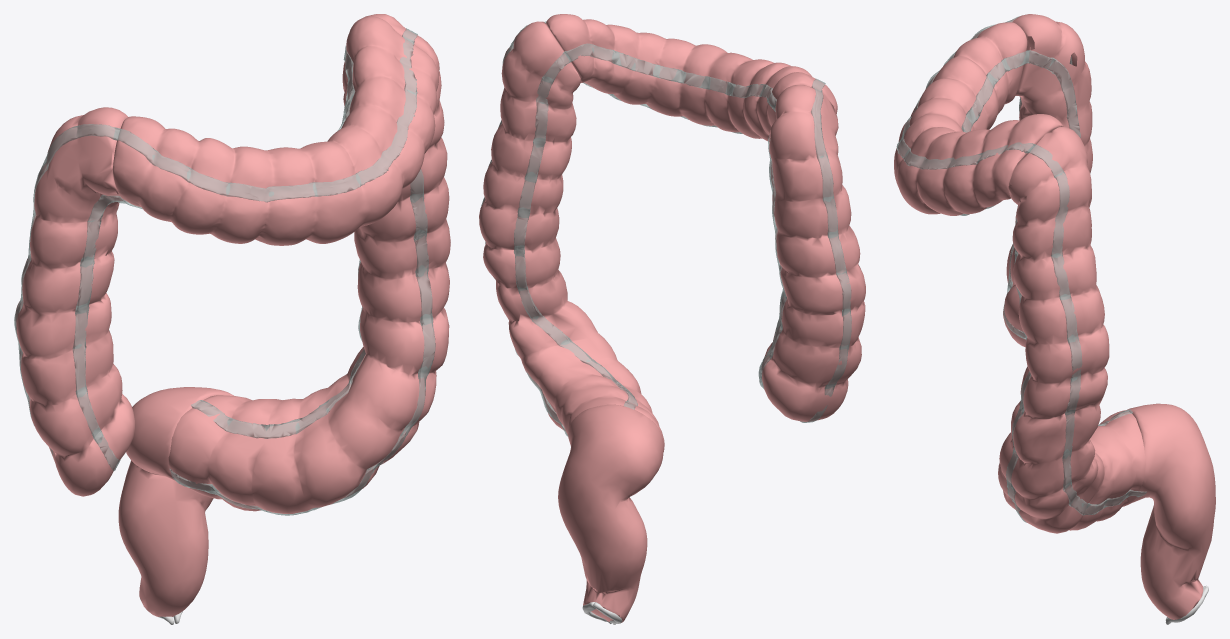
File: large instince.glb
3 renders of one model, left to right at view 1: azimuth 30°, elevation 25°; view 2: azimuth 150°, elevation 25°; view 3: azimuth 270°, elevation 25°, orthographic. The views are drawn at different scales.
Visible parts, largest first — view 1: Object_53, Object_57, Object_59, Object_61, Object_60; view 2: Object_53, Object_57, Object_60, Object_61; view 3: Object_53, Object_57, Object_61, Object_60, Object_59.
Boxes of the visible parts, box(x1,y1,x2,y2) form: Object_53: box(15, 14, 450, 616); Object_57: box(112, 16, 438, 245); Object_59: box(72, 169, 435, 515); Object_61: box(14, 28, 417, 455); Object_60: box(191, 46, 365, 438); Object_53: box(479, 21, 865, 622); Object_57: box(545, 14, 837, 141); Object_60: box(513, 43, 786, 409); Object_61: box(481, 21, 851, 436); Object_53: box(998, 14, 1215, 619); Object_57: box(894, 22, 1063, 215); Object_61: box(896, 16, 1146, 515); Object_60: box(961, 50, 1132, 425); Object_59: box(960, 97, 1031, 522).
Size of the model in its own units: 0.2382 by 0.3295 by 0.1705.
